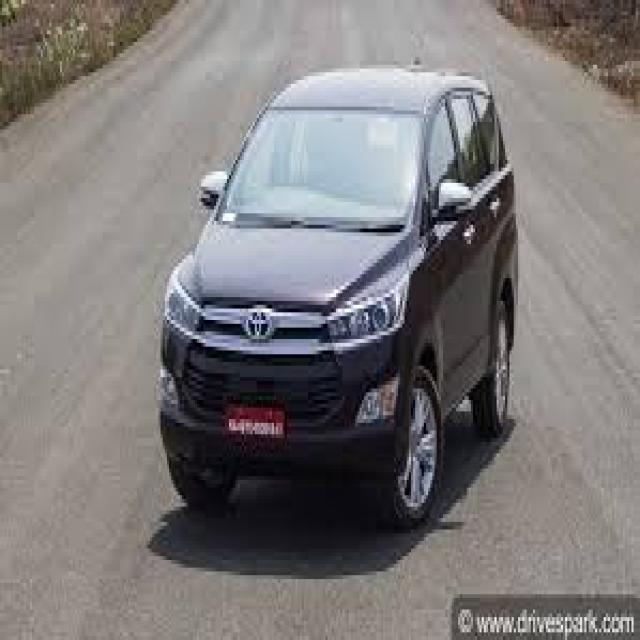light_vehicle: (154, 62, 519, 532)
